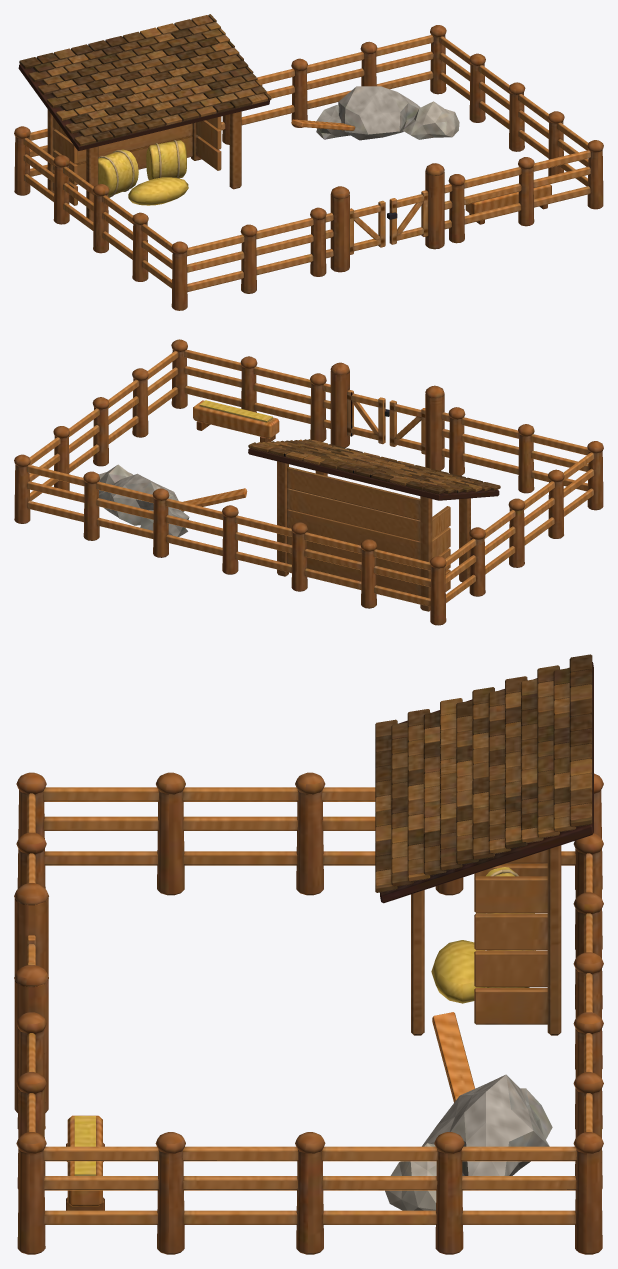
The model's file is pygmy_yard.glb.
3 renders of one model, top to bottom at view 1: azimuth 30°, elevation 25°; view 2: azimuth 150°, elevation 25°; view 3: azimuth 270°, elevation 25°, orthographic. The views are drawn at different scales.
Visible parts, largest first — view 1: pygmy_yard, gate1, gate0; view 2: pygmy_yard, gate1, gate0; view 3: pygmy_yard.
Part boxes in pixels (box(x1,y1,x2,y2)): pygmy_yard: box(14, 14, 603, 310); gate1: box(387, 190, 428, 244); gate0: box(350, 200, 385, 254); pygmy_yard: box(14, 339, 603, 625); gate1: box(347, 389, 389, 444); gate0: box(389, 400, 425, 454); pygmy_yard: box(14, 654, 603, 1254).
Size of the model in its own units: 3 by 0.9343 by 2.01.
Materials: 1 (1 with a texture image).
